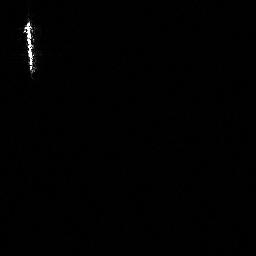ship: (19, 17, 42, 80)
